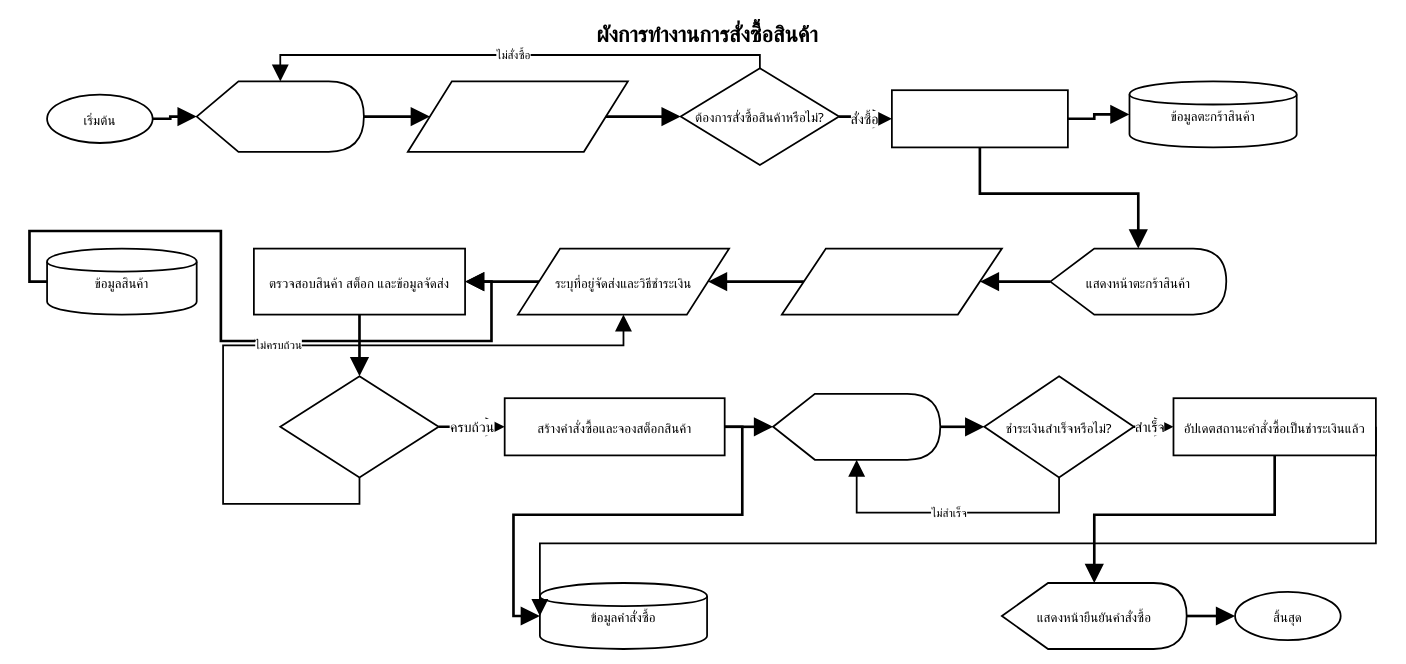
This 1406x664 diagram has some shape labels left out. Each missing label, with the centre of its shape:
สินค้าและข้อมูลครบถ้วนหรือไม่?: point (359, 426)
เพิ่มสินค้าลงตะกร้า: point (979, 118)
เลือกตัวเลือกสินค้าและจำนวนที่ต้องการ: point (517, 116)
เลือกรายการสินค้าและกดดำเนินการสั่งซื้อ: point (891, 281)
แสดงหน้าชำระเงิน: point (856, 426)
แสดงหน้ารายละเอียดสินค้า: point (279, 116)
